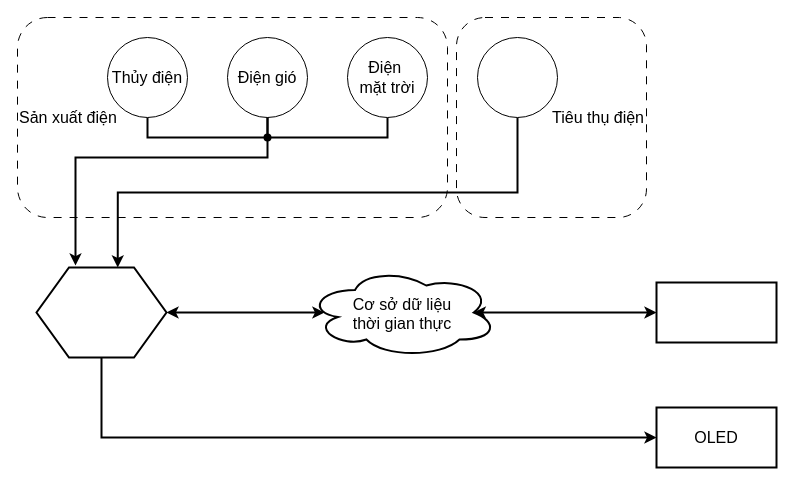
The diagram is 795 pixels wide and 486 high, and some of its shapes have lost their labels. The shapes that lost their labels are listed below. From the top down, each one's centre as x and y in pixels, then its label:
At [517,77]: "Thành phố (Metro)".
At [101,312]: "ESP8266".
At [716,312]: "Giao diện web".
